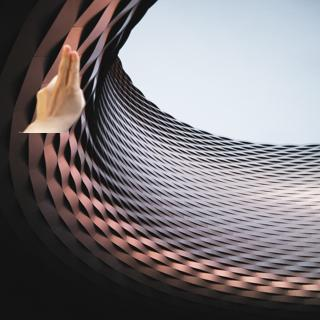DHAVE: (27, 42, 88, 128)
